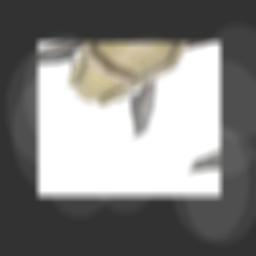Crow: (99, 70, 183, 141)
